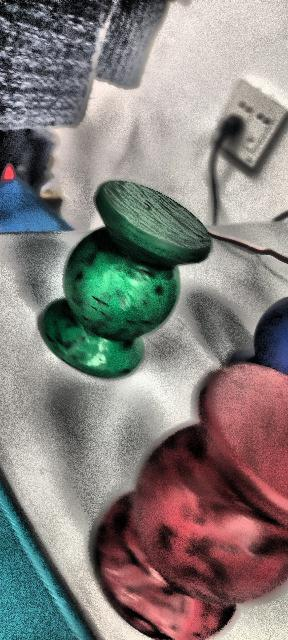green: (42, 174, 213, 382)
red: (95, 360, 288, 640)
